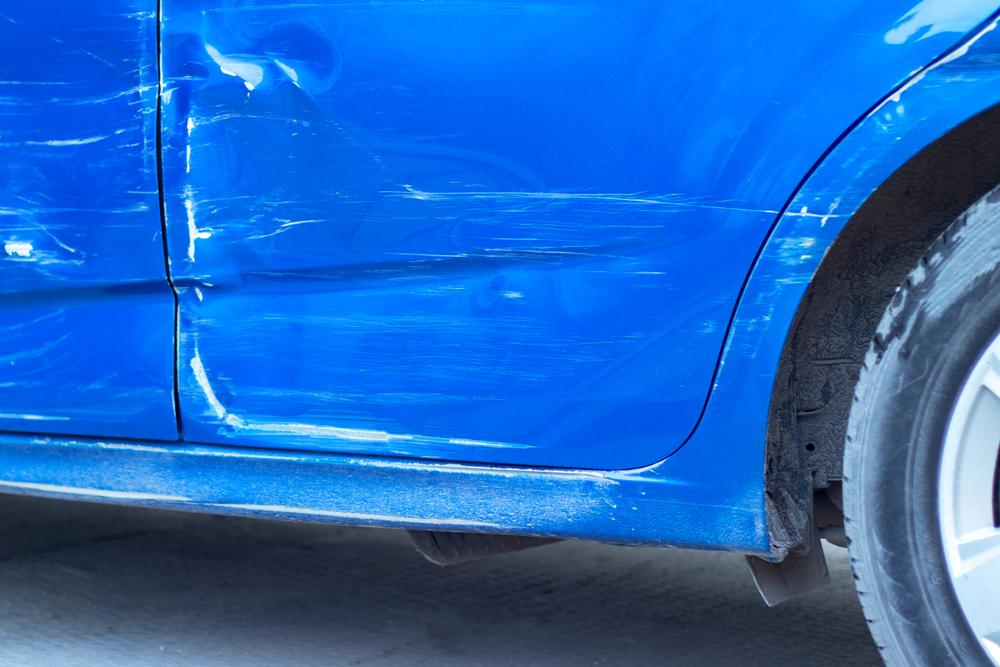dent: (160, 24, 758, 454)
scratch: (0, 26, 148, 370), (731, 152, 880, 365)
